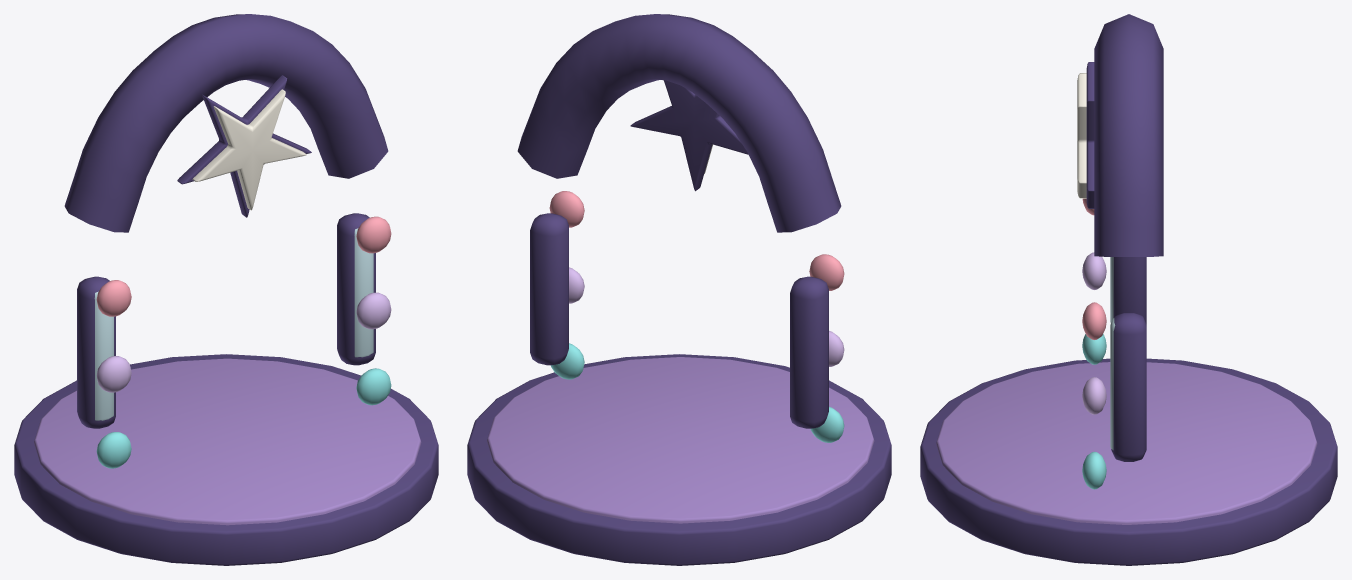
File: ice_gate.glb
3 renders of one model, left to right at view 1: azimuth 30°, elevation 25°; view 2: azimuth 150°, elevation 25°; view 3: azimuth 270°, elevation 25°, orthographic.
Parts seen in each view (by area): view 1: Foot.002, FrostArchInk, FootInk, Snowflake.001, FrostPostInk_1.0, FrostPostInk_-1.0, SnowflakeInk.001, FrostPost_1.0, FrostPost_-1.0, PostBerry_1.0_2, PostBerry_1.0_1, PostBerry_-1.0_0 (+3 smaller); view 2: Foot.002, FrostArchInk, FootInk, FrostPostInk_1.0, FrostPostInk_-1.0, SnowflakeInk.001, PostBerry_-1.0_2, PostBerry_1.0_2, PostBerry_-1.0_0, PostBerry_1.0_0; view 3: Foot.002, FootInk, FrostArchInk, FrostPostInk_1.0, FrostPostInk_-1.0, SnowflakeInk.001, Snowflake.001, PostBerry_1.0_1, PostBerry_1.0_0, PostBerry_1.0_2, PostBerry_-1.0_1, PostBerry_-1.0_0 (+1 smaller).
Part boxes in pixels (<box>): Foot.002: <box>34,358,421,525</box>; FrostArchInk: <box>64,14,388,232</box>; FootInk: <box>14,354,438,565</box>; Snowflake.001: <box>192,89,306,210</box>; FrostPostInk_1.0: <box>337,213,375,365</box>; FrostPostInk_-1.0: <box>77,276,115,428</box>; SnowflakeInk.001: <box>177,75,311,217</box>; FrostPost_1.0: <box>354,228,373,357</box>; FrostPost_-1.0: <box>94,291,113,420</box>; PostBerry_1.0_2: <box>356,216,391,253</box>; PostBerry_1.0_1: <box>356,292,391,329</box>; PostBerry_-1.0_0: <box>96,432,131,468</box>; Foot.002: <box>487,357,874,523</box>; FrostArchInk: <box>517,14,841,232</box>; FootInk: <box>467,354,891,565</box>; FrostPostInk_1.0: <box>530,213,568,365</box>; FrostPostInk_-1.0: <box>790,276,828,428</box>; SnowflakeInk.001: <box>630,80,748,191</box>; PostBerry_-1.0_2: <box>809,254,844,290</box>; PostBerry_1.0_2: <box>549,191,584,227</box>; PostBerry_-1.0_0: <box>810,406,844,442</box>; PostBerry_1.0_0: <box>550,343,584,379</box>; Foot.002: <box>936,362,1317,524</box>; FootInk: <box>920,358,1337,565</box>; FrostArchInk: <box>1094,14,1163,256</box>; FrostPostInk_1.0: <box>1111,313,1146,461</box>; FrostPostInk_-1.0: <box>1113,257,1146,323</box>; SnowflakeInk.001: <box>1086,62,1094,208</box>; Snowflake.001: <box>1077,73,1086,198</box>; PostBerry_1.0_1: <box>1082,377,1106,414</box>; PostBerry_1.0_0: <box>1082,451,1106,489</box>; PostBerry_1.0_2: <box>1082,302,1106,339</box>; PostBerry_-1.0_1: <box>1082,252,1106,289</box>; PostBerry_-1.0_0: <box>1082,334,1106,364</box>.
Size of the model in its own units: 7.5 by 8.97 by 7.5.
